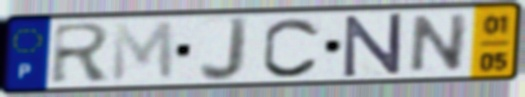C: (259, 15, 323, 80)
J: (196, 14, 252, 84)
M: (109, 19, 177, 85)
N: (342, 10, 404, 80), (405, 11, 472, 75)
R: (49, 21, 115, 87)
